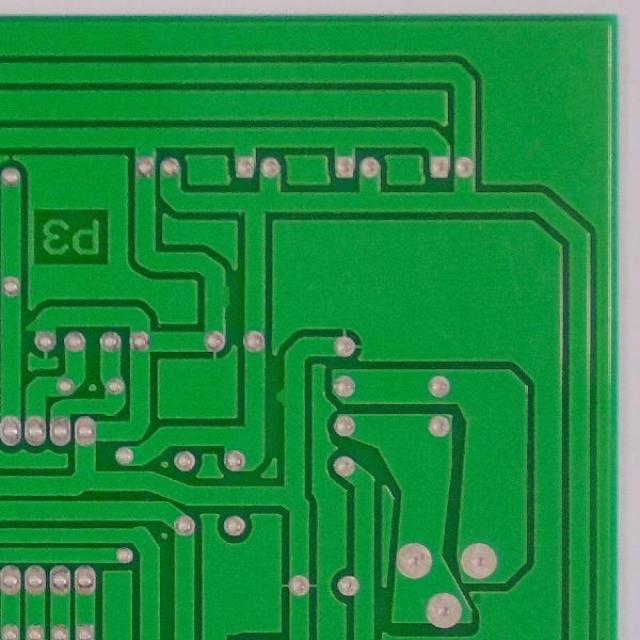spur: (272, 382, 297, 411), (217, 276, 234, 314), (26, 314, 42, 336)
